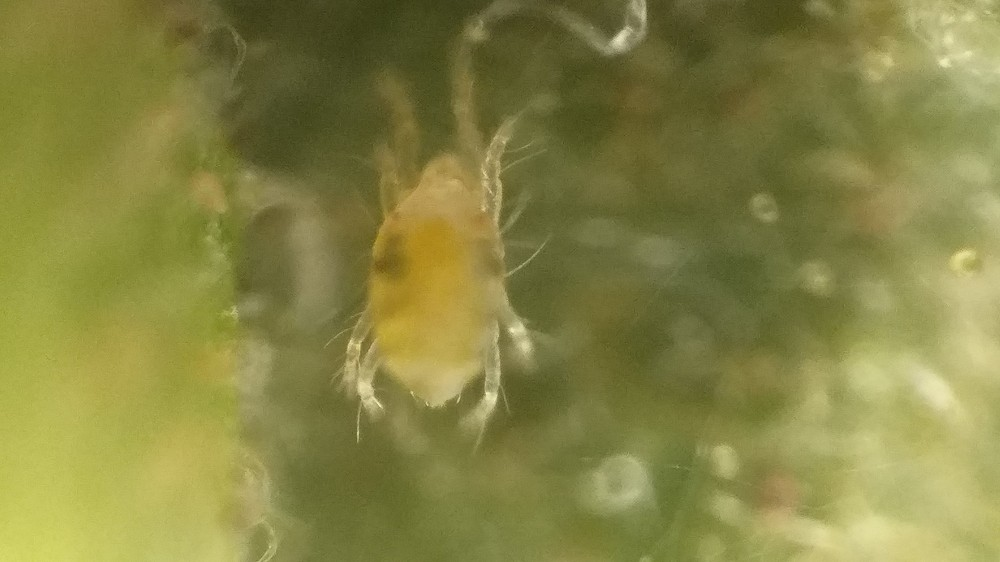Aracnido Rojo: (307, 39, 577, 469)
